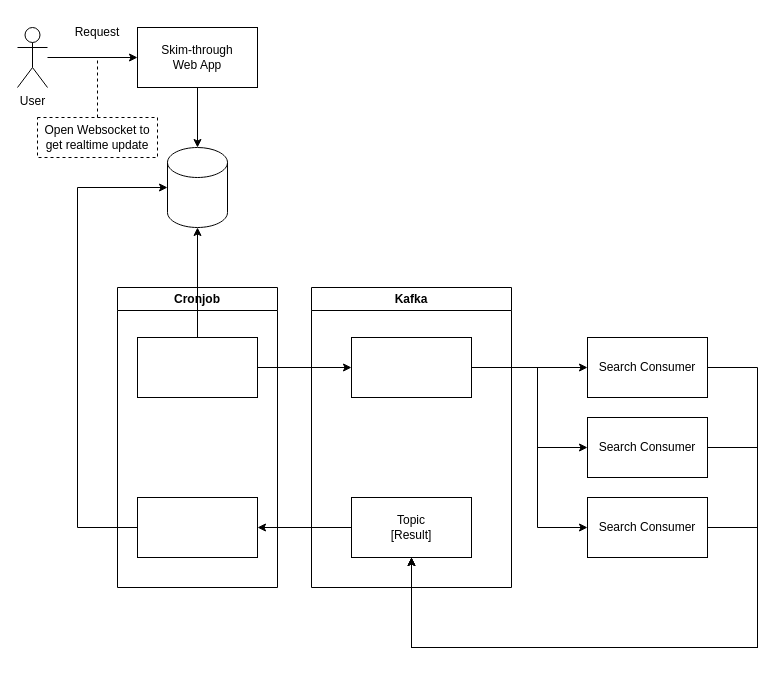
Image size: 783x673. Some labels were removed from this diagram. Here are the shapes that lost their labels. From the top down, the centre of each, then its label:
(x=197, y=187): mysql
(x=197, y=367): Search producer
(x=411, y=367): Topic [Search]
(x=197, y=527): Result consumer
